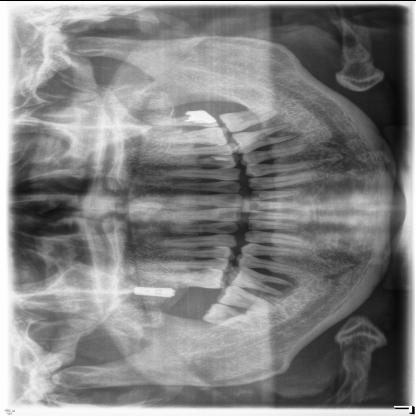ITI: (132, 286, 174, 296)
